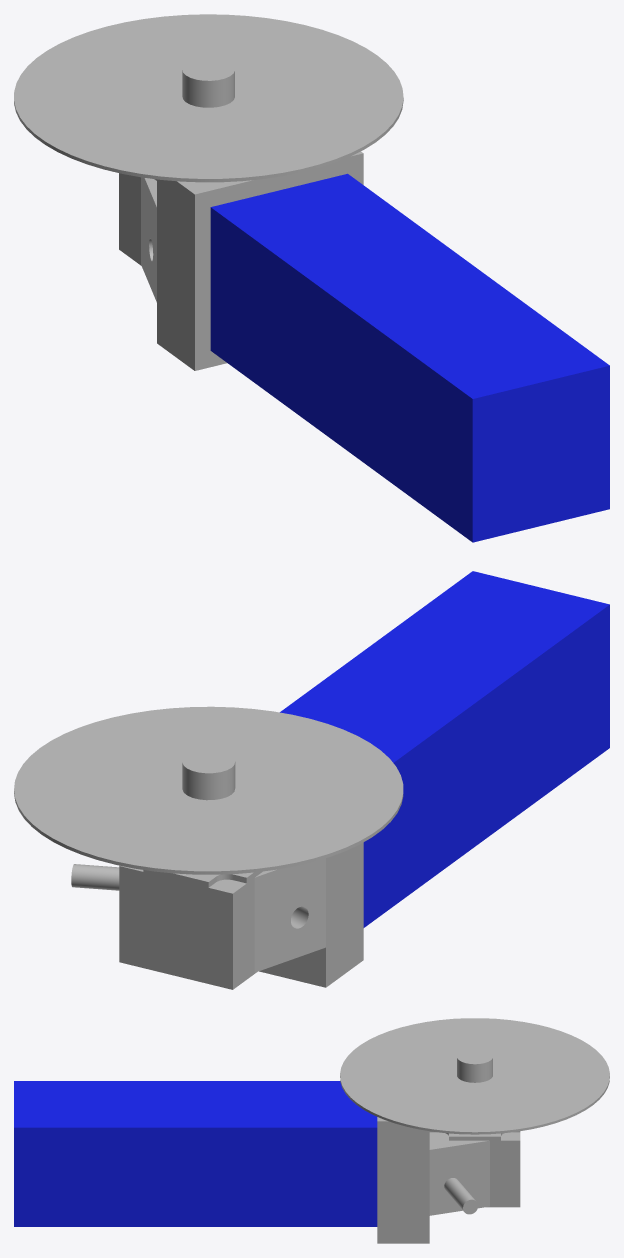
File: amoladora_2.glb
3 views of the same model, one above another, from view 1: azimuth 30°, elevation 25°; view 2: azimuth 150°, elevation 25°; view 3: azimuth 270°, elevation 25° (orthographic). The views are drawn at different scales.
Parts seen in each view (by area): view 1: Sólido6, Sólido1, Sólido3, Sólido2, Sólido4; view 2: Sólido6, Sólido1, Sólido2, Sólido4, Sólido3, Sólido5; view 3: Sólido6, Sólido1, Sólido3, Sólido4, Sólido2, Sólido5.
Part boxes in pixels (box(x1,y1,x2,y2)): Sólido6: box(210, 173, 609, 542); Sólido1: box(14, 14, 403, 182); Sólido3: box(157, 151, 363, 370); Sólido2: box(119, 173, 141, 265); Sólido4: box(141, 177, 156, 302); Sólido6: box(280, 571, 609, 927); Sólido1: box(14, 706, 403, 901); Sólido2: box(119, 874, 256, 989); Sólido4: box(254, 858, 325, 972); Sólido3: box(259, 842, 363, 987); Sólido5: box(71, 864, 119, 890); Sólido6: box(14, 1081, 377, 1226); Sólido1: box(340, 1018, 609, 1146); Sólido3: box(377, 1117, 429, 1243); Sólido4: box(429, 1140, 489, 1215); Sólido2: box(486, 1146, 520, 1207); Sólido5: box(444, 1178, 478, 1214).
Bounding box in the file's own units: 0.1549 × 0.1005 × 0.3421.
